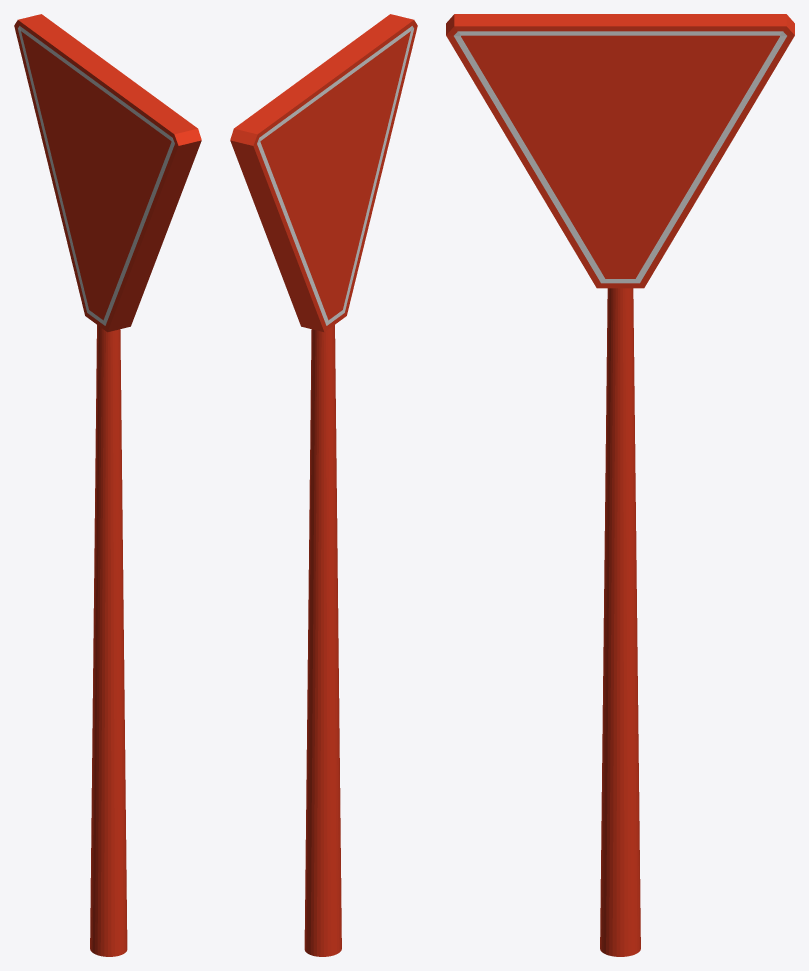
File: 止まれ標識.fbx
3 renders of one model, left to right at view 1: azimuth 30°, elevation 25°; view 2: azimuth 150°, elevation 25°; view 3: azimuth 270°, elevation 25°, orthographic. The views are drawn at different scales.
Visible parts, largest first — view 1: 立方体; view 2: 立方体; view 3: 立方体.
Part boxes in pixels (left/top/right/bottom): 立方体: left=14, top=14, right=201, bottom=956; 立方体: left=230, top=14, right=417, bottom=956; 立方体: left=446, top=14, right=794, bottom=956.
Bounding box in the file's own units: 16.93 × 442 × 151.
